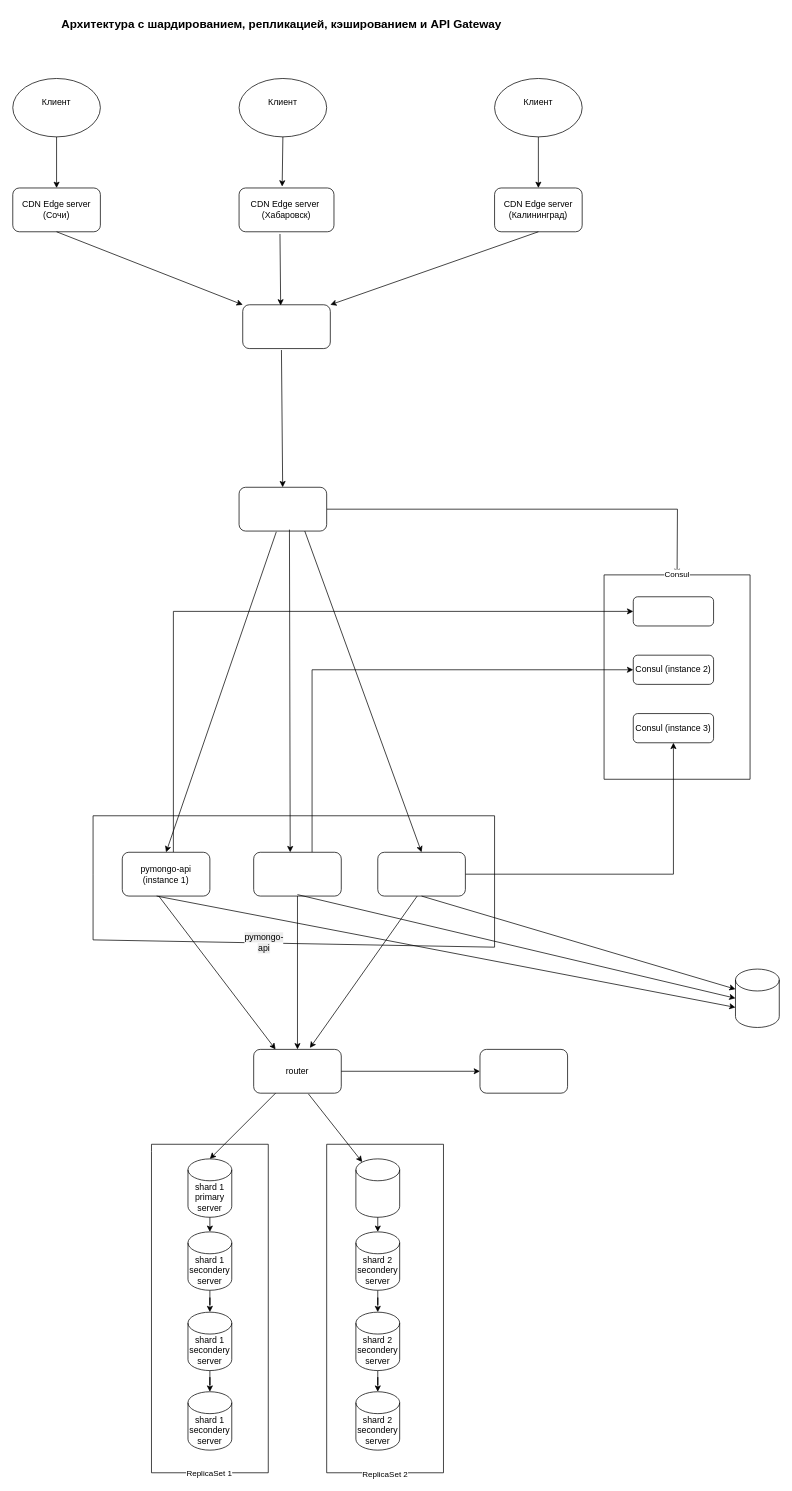
This 792x1491 diagram has some shape labels left out. Here are the shapes that lost their labels. From the top down, the centre of each, then its label:
At point 286,326: "CDN basic server ( Москва)".
At point 282,509: "API Gateway".
At point 673,611: "Consul (instance 1)".
At point 297,874: "pymongo-api (instance 2)".
At point 421,874: "pymongo-api (instance 3)".
At point 757,997: "redis".
At point 523,1071: "config server".
At point 377,1187: "shard 2 primary server".
